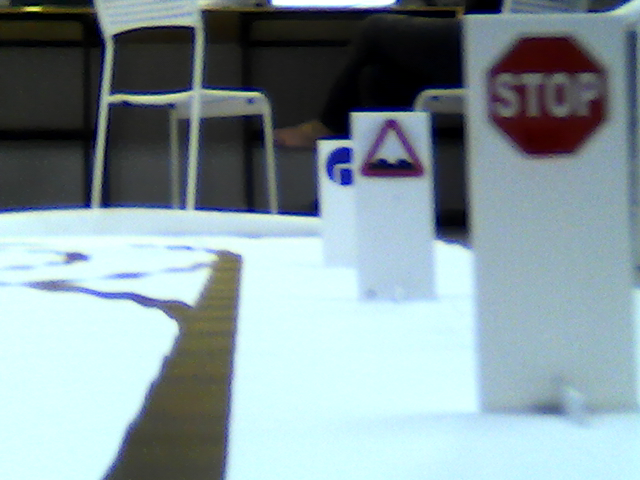Nerov: (362, 117, 425, 182)
Stop: (485, 27, 603, 167)
